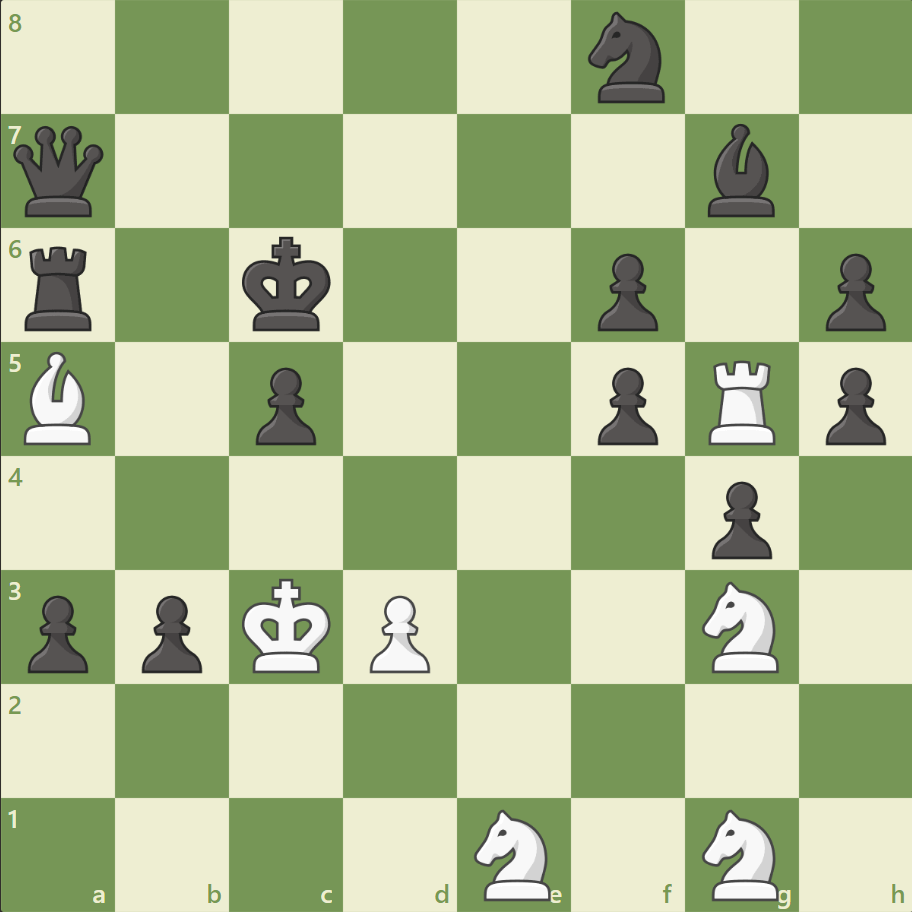B: (17, 347, 101, 449)
K: (238, 571, 338, 679)
N: (692, 575, 789, 677), (465, 802, 562, 904), (692, 802, 789, 904)
P: (361, 586, 435, 677)
R: (700, 352, 783, 449)
b: (698, 120, 782, 222)
k: (238, 231, 338, 339)
n: (579, 7, 676, 110)
p: (247, 359, 322, 450), (701, 473, 776, 564), (20, 586, 95, 677), (133, 586, 208, 677), (588, 246, 662, 337), (815, 246, 889, 337), (588, 359, 662, 450), (815, 359, 889, 450)
q: (10, 122, 109, 222)
r: (19, 239, 102, 336)
